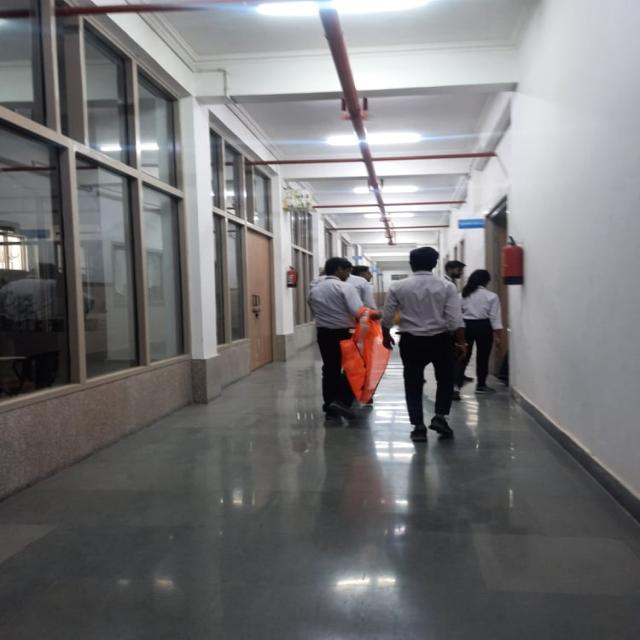unsafe: (385, 249, 466, 447), (304, 256, 372, 426), (452, 274, 506, 397)
